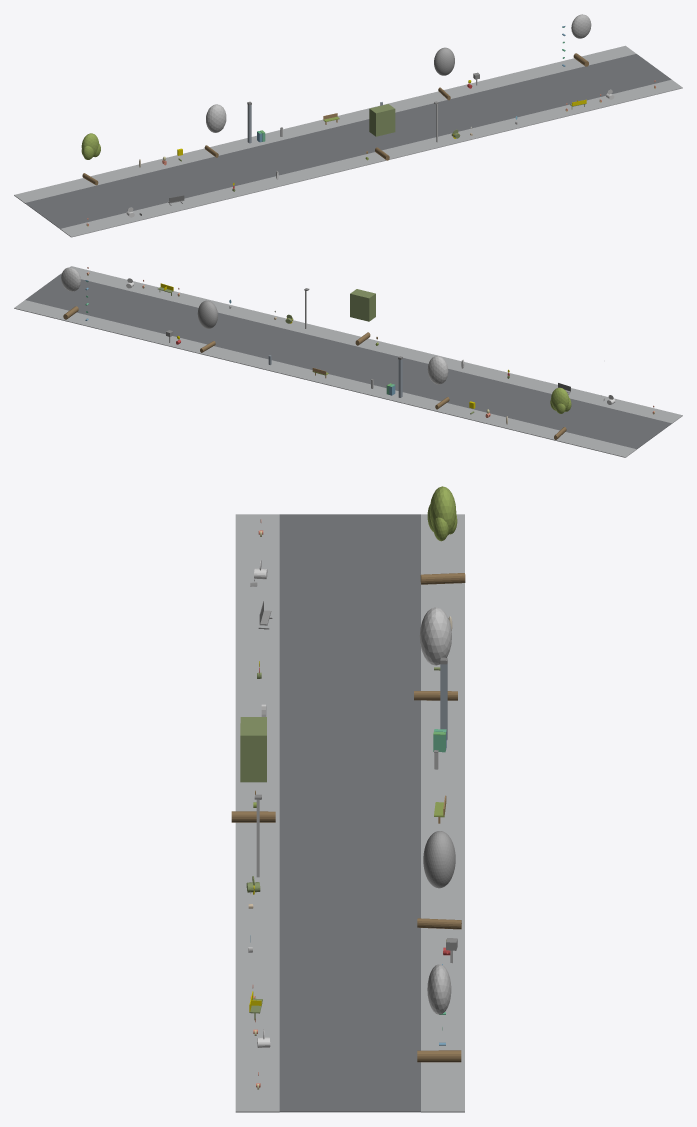
3 renders of one model, top to bottom at view 1: azimuth 30°, elevation 25°; view 2: azimuth 150°, elevation 25°; view 3: azimuth 270°, elevation 25°, orthographic. The views are drawn at different scales.
Parts seen in each view (by area): view 1: road_slab, sidewalk_left, sidewalk_right, inst_0014, inst_0013, inst_0015, inst_0012, inst_0016; view 2: road_slab, sidewalk_right, sidewalk_left, inst_0014, inst_0013, inst_0015, inst_0012, inst_0016; view 3: road_slab, sidewalk_left, sidewalk_right, inst_0014, inst_0015, inst_0013, inst_0012, inst_0016.
Boxes of the visible parts, <box> form: road_slab: <box>25,54,671,228</box>; sidewalk_left: <box>60,79,682,237</box>; sidewalk_right: <box>14,45,636,203</box>; inst_0014: <box>369,104,395,160</box>; inst_0013: <box>204,104,226,157</box>; inst_0015: <box>434,47,454,100</box>; inst_0012: <box>81,133,100,185</box>; inst_0016: <box>571,14,591,66</box>; road_slab: <box>25,274,671,449</box>; sidewalk_right: <box>14,300,636,457</box>; sidewalk_left: <box>60,266,682,423</box>; inst_0014: <box>350,289,375,345</box>; inst_0013: <box>427,356,449,409</box>; inst_0015: <box>197,300,217,352</box>; inst_0012: <box>550,387,571,439</box>; inst_0016: <box>61,267,80,319</box>; road_slab: <box>279,514,420,1112</box>; sidewalk_left: <box>235,514,279,1112</box>; sidewalk_right: <box>421,514,464,1112</box>; inst_0014: <box>231,717,275,822</box>; inst_0015: <box>417,831,461,929</box>; inst_0013: <box>414,607,457,700</box>; inst_0012: <box>420,486,465,584</box>; inst_0016: <box>417,964,461,1062</box>.
Size of the model in its own units: 80 by 6.08 by 13.24.
